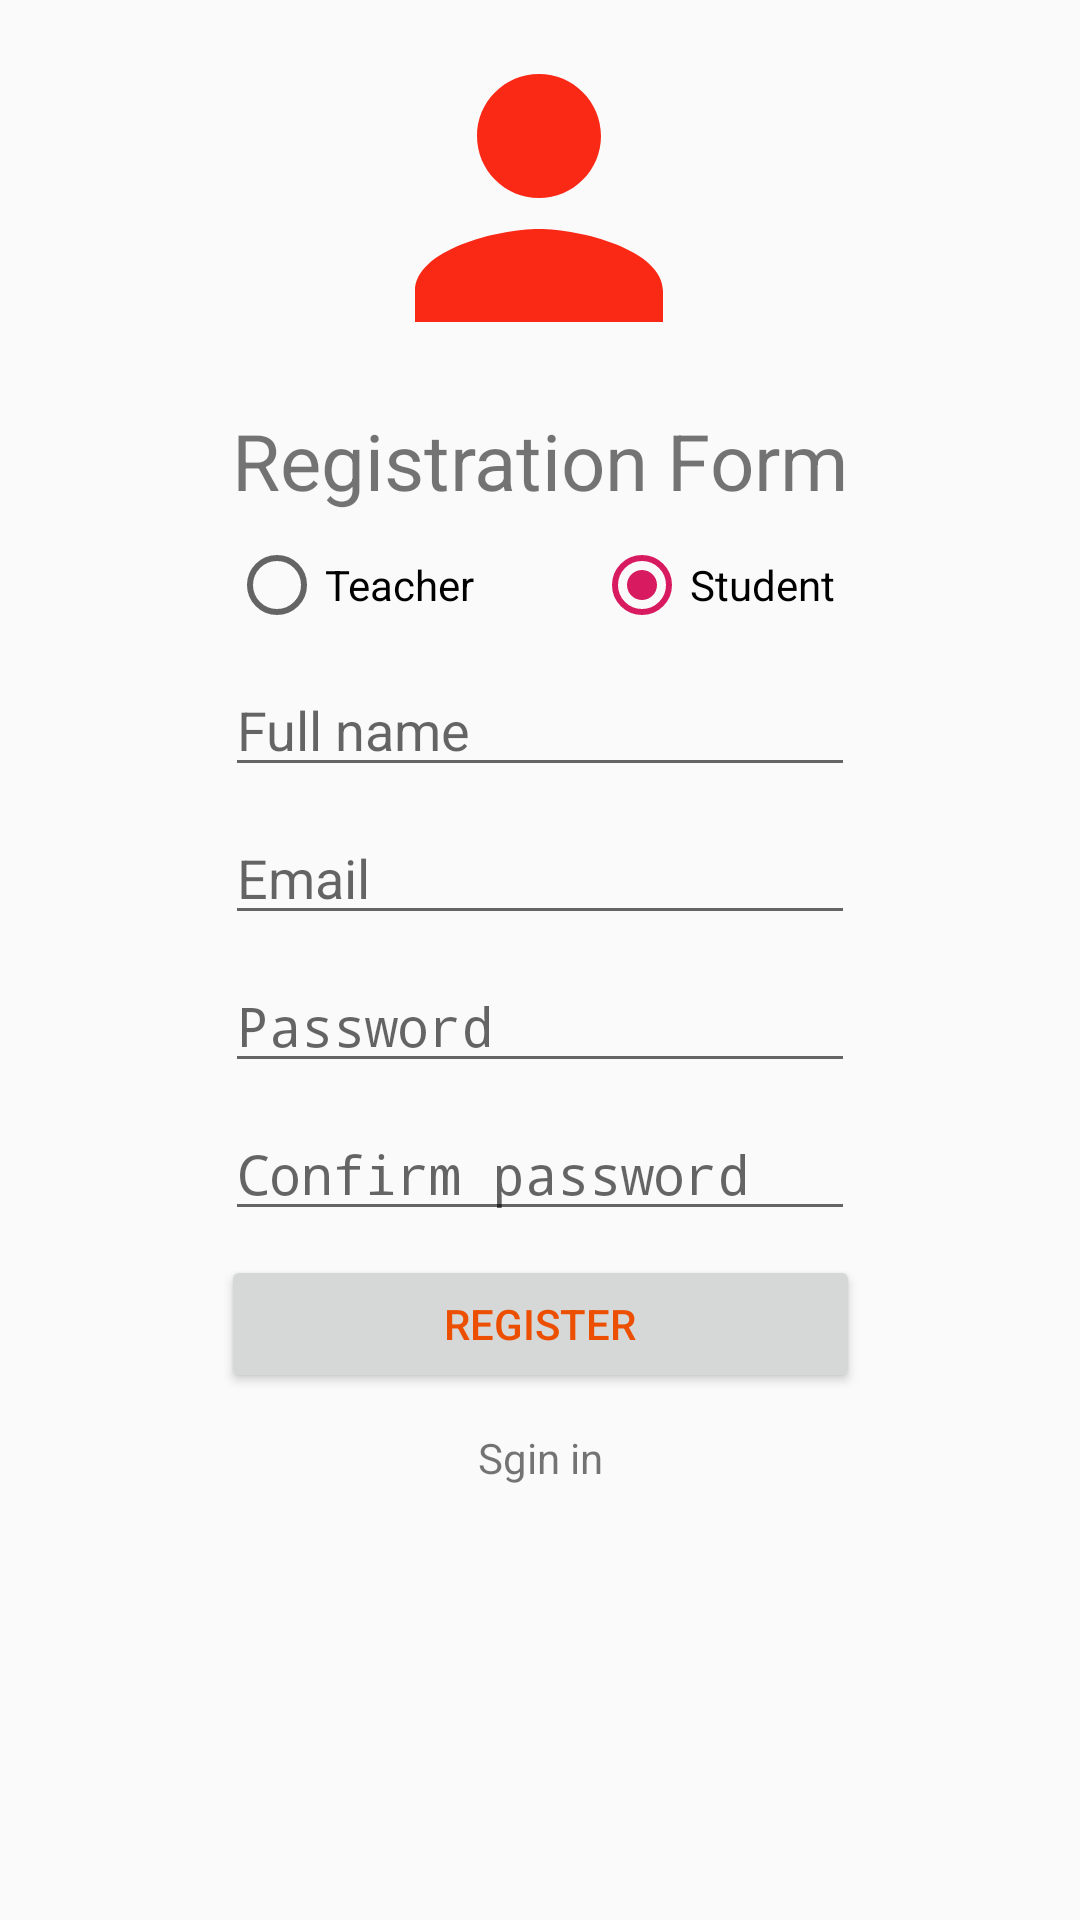

Point at icon controls on the screen. Image size 1080*1920, points as (x,y).
person inverse: (539,198)
